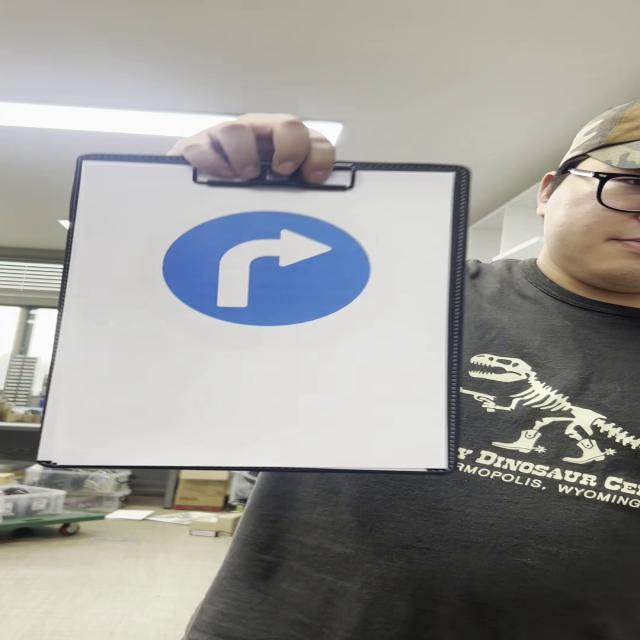right: (169, 210, 373, 329)
